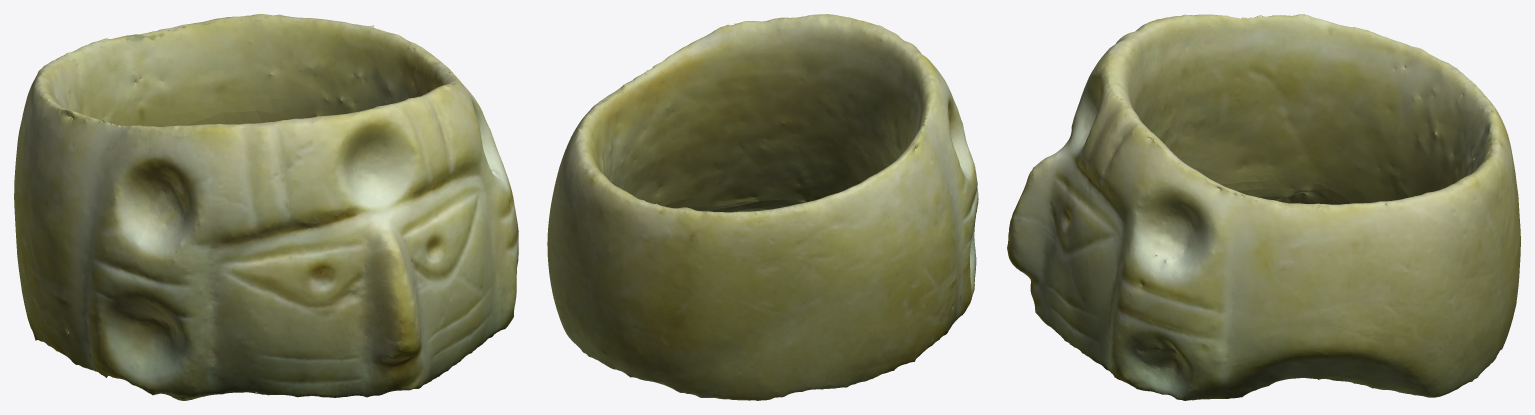
The picture shows the model from 3 angles, left to right: view 1: azimuth 30°, elevation 25°; view 2: azimuth 150°, elevation 25°; view 3: azimuth 270°, elevation 25°; orthographic projection. The views are drawn at different scales.
Visible parts, largest first — view 1: Mesh_0.017; view 2: Mesh_0.017; view 3: Mesh_0.017.
Boxes of the visible parts, x1,y1,x2,y2 form: Mesh_0.017: (14,14,518,400); Mesh_0.017: (547,14,978,400); Mesh_0.017: (1007,14,1520,400).
Size of the model in its own units: 0.2145 by 0.1367 by 0.2392.
1 material, 1 textured.
